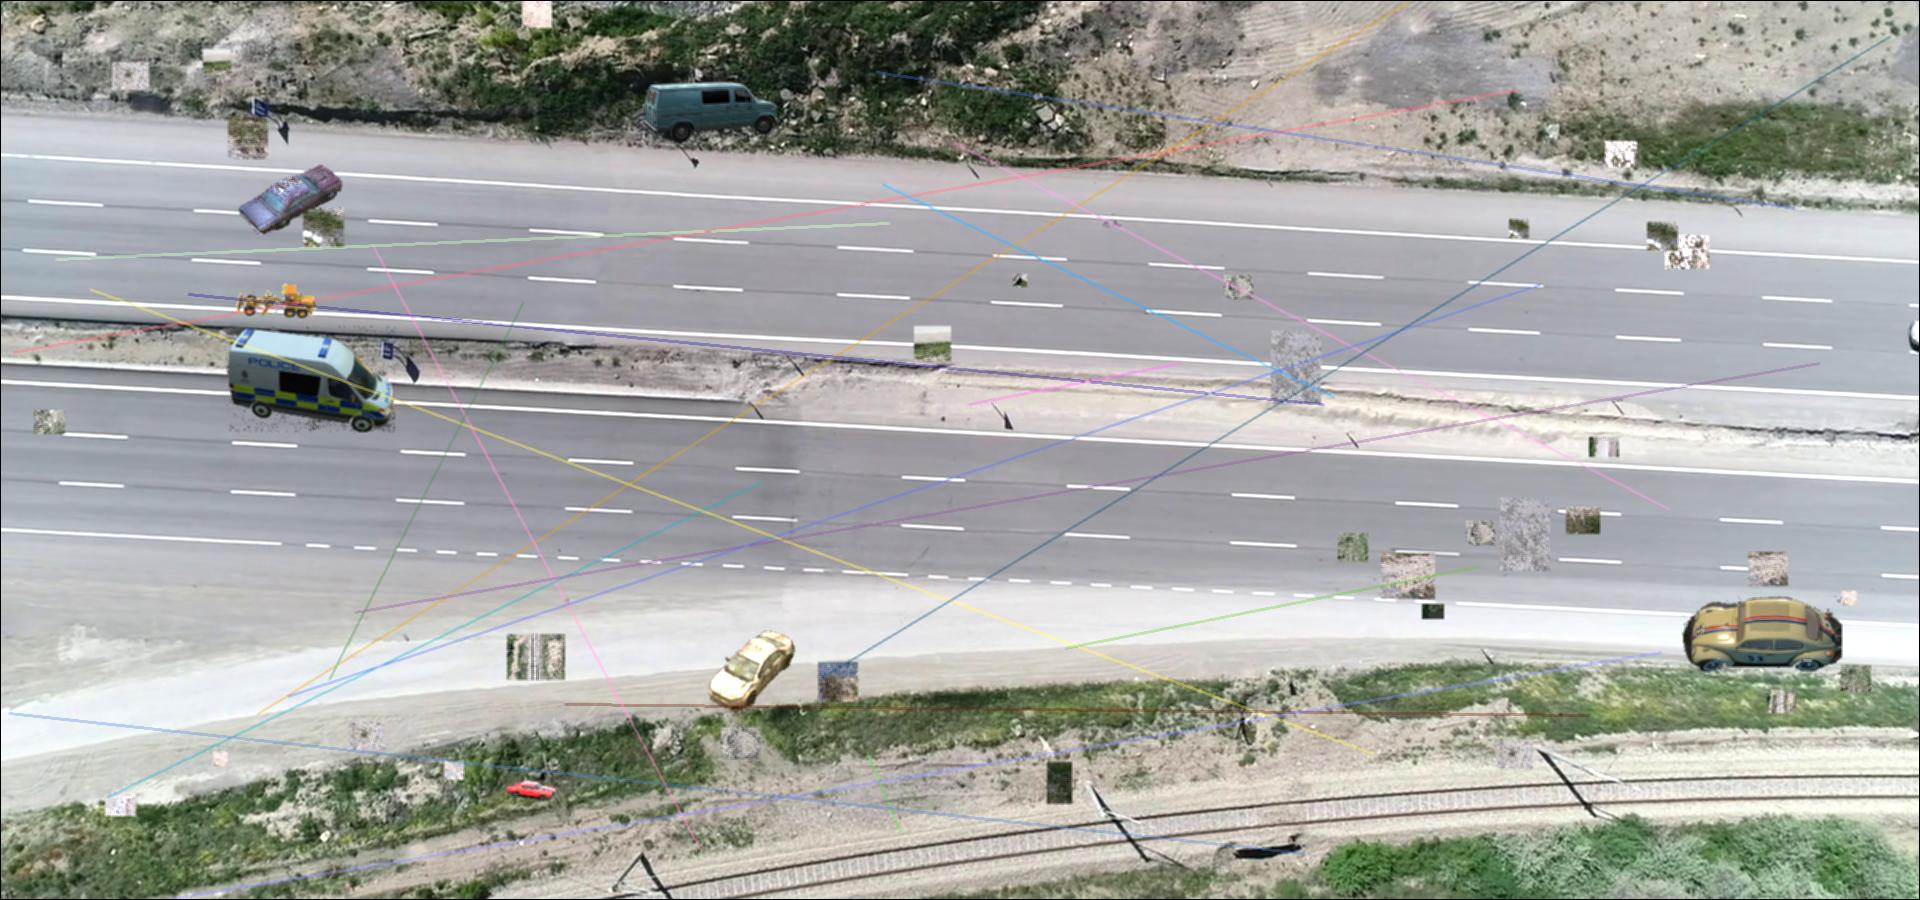arac: (227, 326, 396, 432), (1682, 595, 1842, 673), (642, 81, 779, 143), (707, 629, 804, 715), (236, 163, 342, 234), (236, 282, 317, 321), (504, 780, 557, 801)
